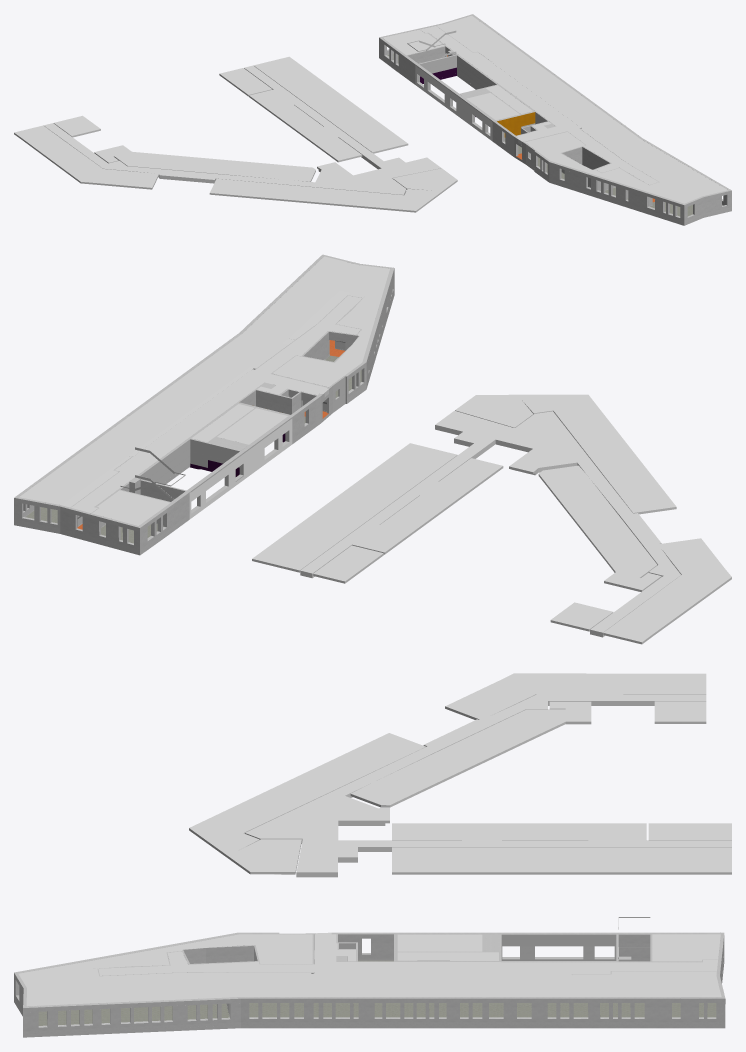
Rendered from 1_floor_aisle_b_jpeg_draco.glb.
The picture shows the model from 3 angles, top to bottom: view 1: azimuth 30°, elevation 25°; view 2: azimuth 150°, elevation 25°; view 3: azimuth 270°, elevation 25°; orthographic projection. The views are drawn at different scales.
Parts seen in each view (by area): view 1: Cube_093, Cube_068, Cube_066; view 2: Cube_093, Cube_068, Cube_066; view 3: Cube_093, Cube_068, Cube_066.
Part boxes in pixels (bbox=[...]): Cube_093: bbox=[14, 15, 727, 212]; Cube_068: bbox=[379, 14, 731, 223]; Cube_066: bbox=[379, 53, 731, 225]; Cube_093: bbox=[19, 256, 731, 644]; Cube_068: bbox=[14, 254, 394, 552]; Cube_066: bbox=[14, 293, 394, 555]; Cube_093: bbox=[18, 673, 731, 1006]; Cube_068: bbox=[14, 917, 725, 1034]; Cube_066: bbox=[14, 960, 725, 1037].
Bounding box in the file's own units: 83.6 × 8.62 × 75.79.
Materials: 19 (11 with a texture image).
